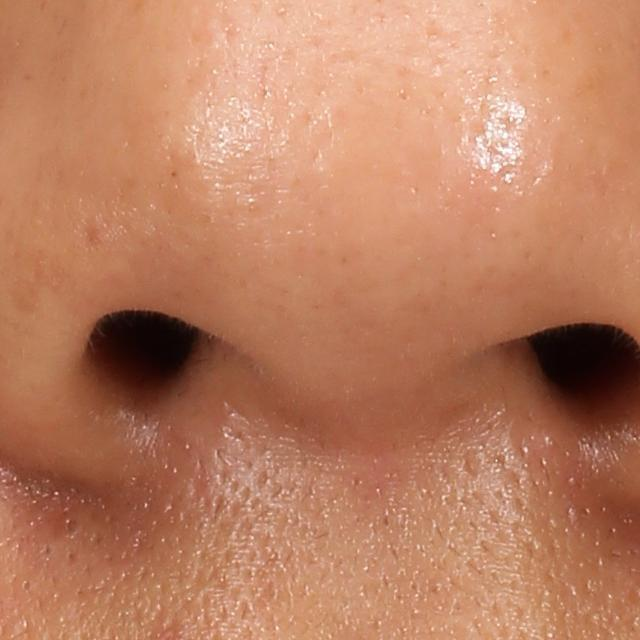comedo: (59, 515, 84, 539)
